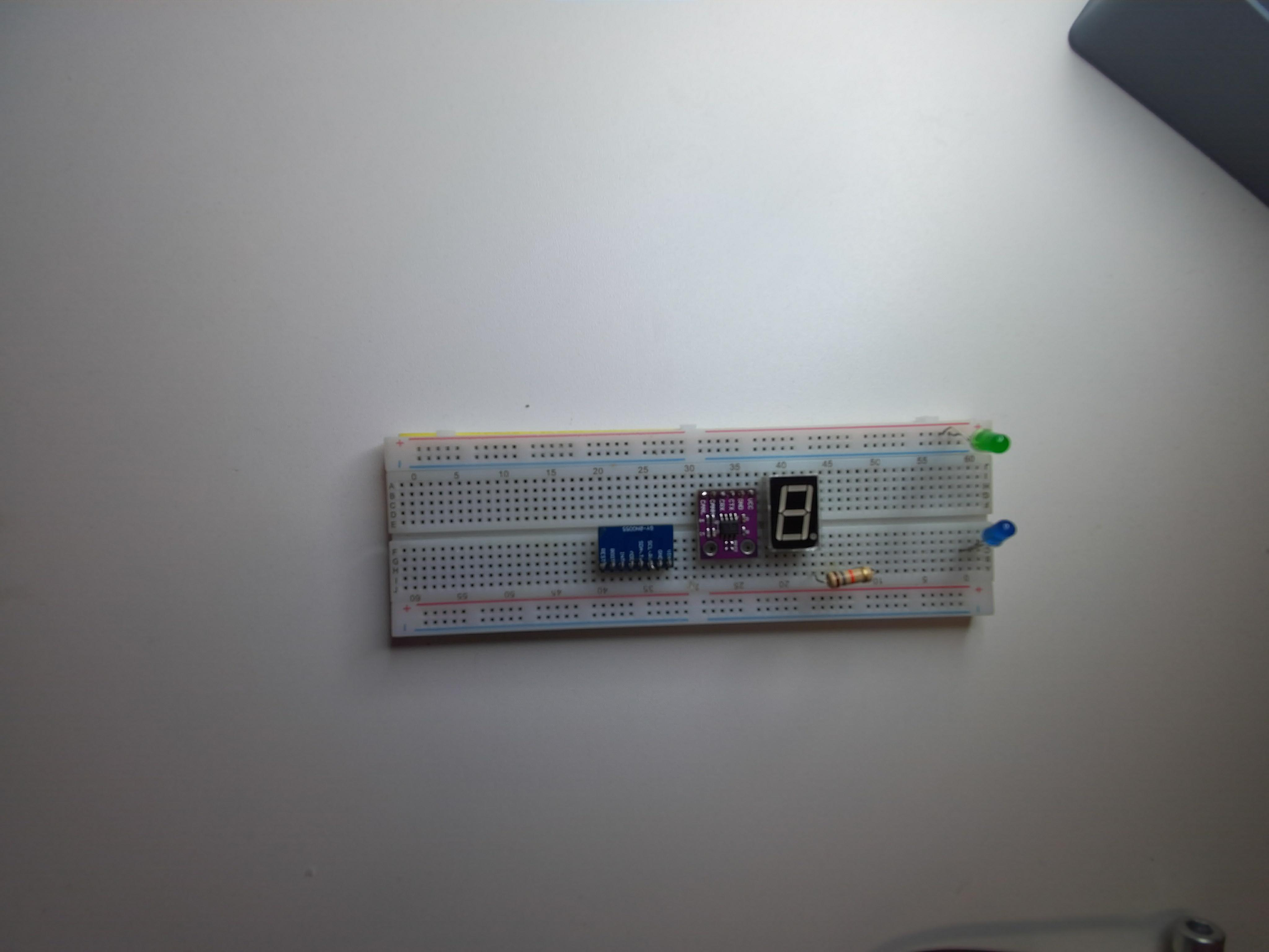base: (377, 424, 1007, 651)
blue-board: (593, 522, 676, 578)
blue-led: (979, 513, 1018, 553)
digit-board: (765, 472, 821, 553)
green-led: (970, 423, 1012, 458)
purple-board: (693, 487, 762, 567)
resistor-big: (823, 564, 875, 588)
